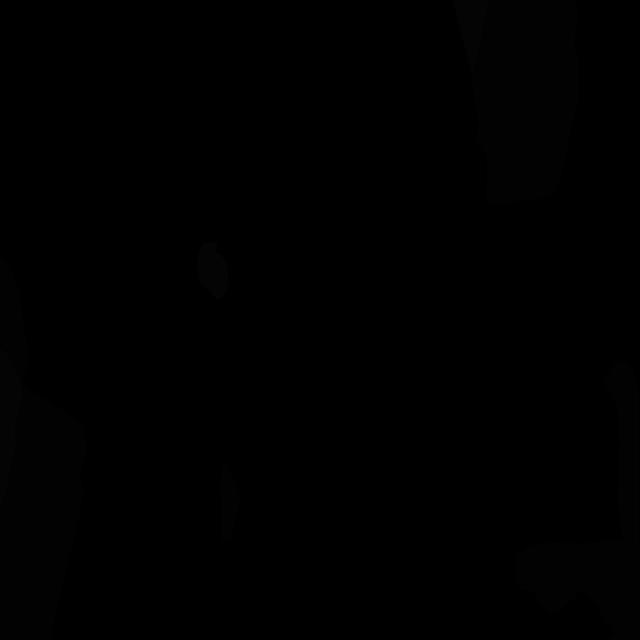cardboard: (516, 360, 640, 640), (0, 383, 88, 640), (472, 0, 579, 205), (0, 252, 28, 383), (220, 458, 240, 541)
soft_plastic: (0, 348, 23, 507), (452, 0, 489, 74), (198, 241, 228, 300)
